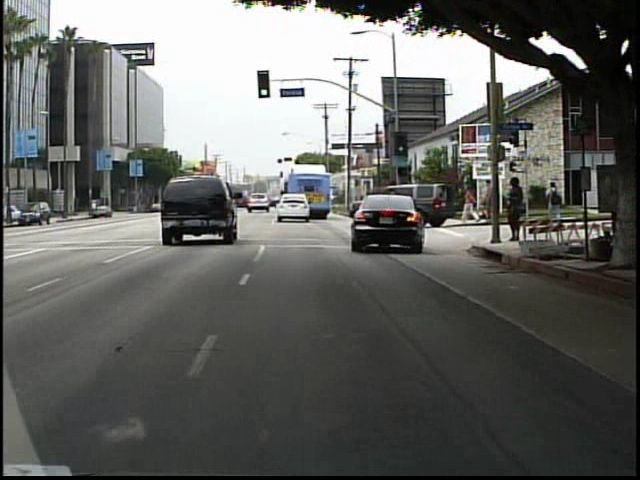person: (503, 173, 527, 249), (461, 180, 482, 228), (546, 179, 566, 221), (482, 178, 497, 223)
